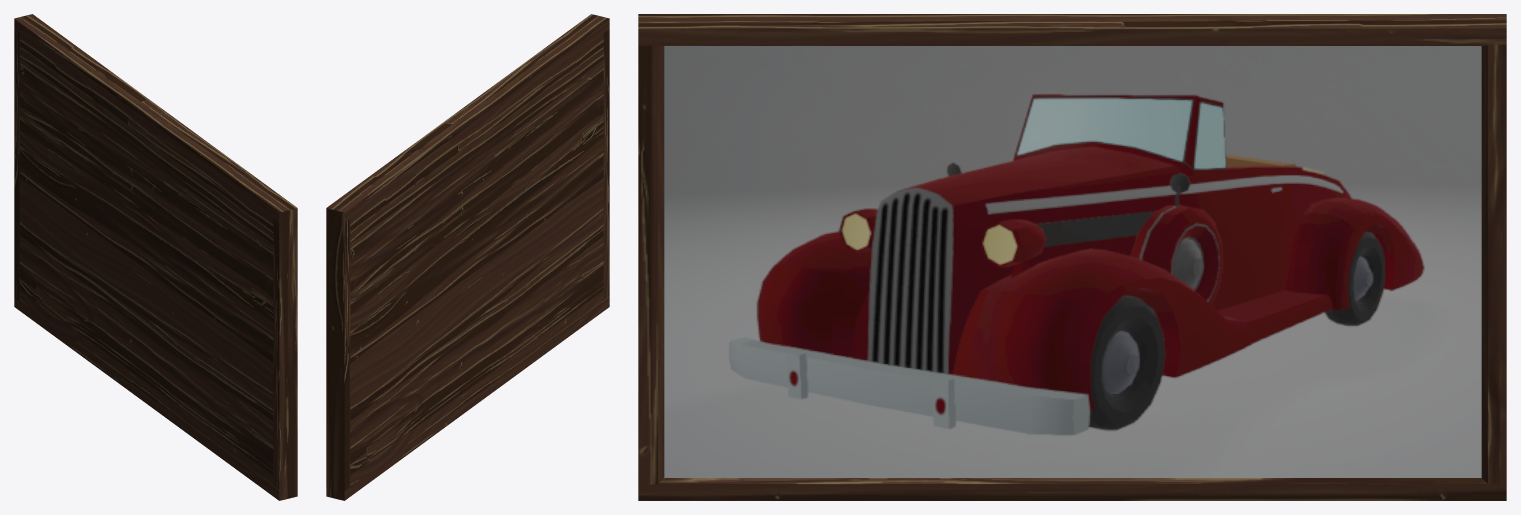
Rendered from myCarPainting.glb.
3 renders of one model, left to right at view 1: azimuth 30°, elevation 25°; view 2: azimuth 150°, elevation 25°; view 3: azimuth 270°, elevation 25°, orthographic. The views are drawn at different scales.
Parts seen in each view (by area): view 1: pCube1; view 2: pCube1; view 3: pCube1.
Boxes of the visible parts, box(x1,y1,x2,y2) form: pCube1: box(14, 14, 297, 500); pCube1: box(326, 14, 609, 500); pCube1: box(638, 14, 1506, 500).
Bounding box in the file's own units: 0.002 × 0.03 × 0.05.
1 material, 1 textured.
